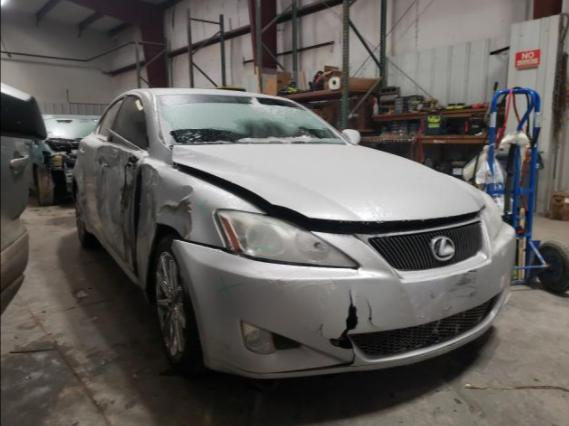Broken part: (172, 193, 516, 379), (167, 143, 487, 236), (92, 127, 150, 279)
Dent: (92, 146, 138, 269), (137, 163, 161, 246), (156, 198, 192, 239), (107, 239, 137, 275), (161, 185, 193, 202)
Missing part: (117, 149, 137, 171)
Paint chip: (366, 297, 379, 329), (449, 286, 478, 298), (452, 270, 475, 285), (120, 165, 126, 203), (317, 316, 324, 336), (429, 293, 434, 299)
Scratch: (418, 293, 443, 313), (428, 304, 454, 319)
